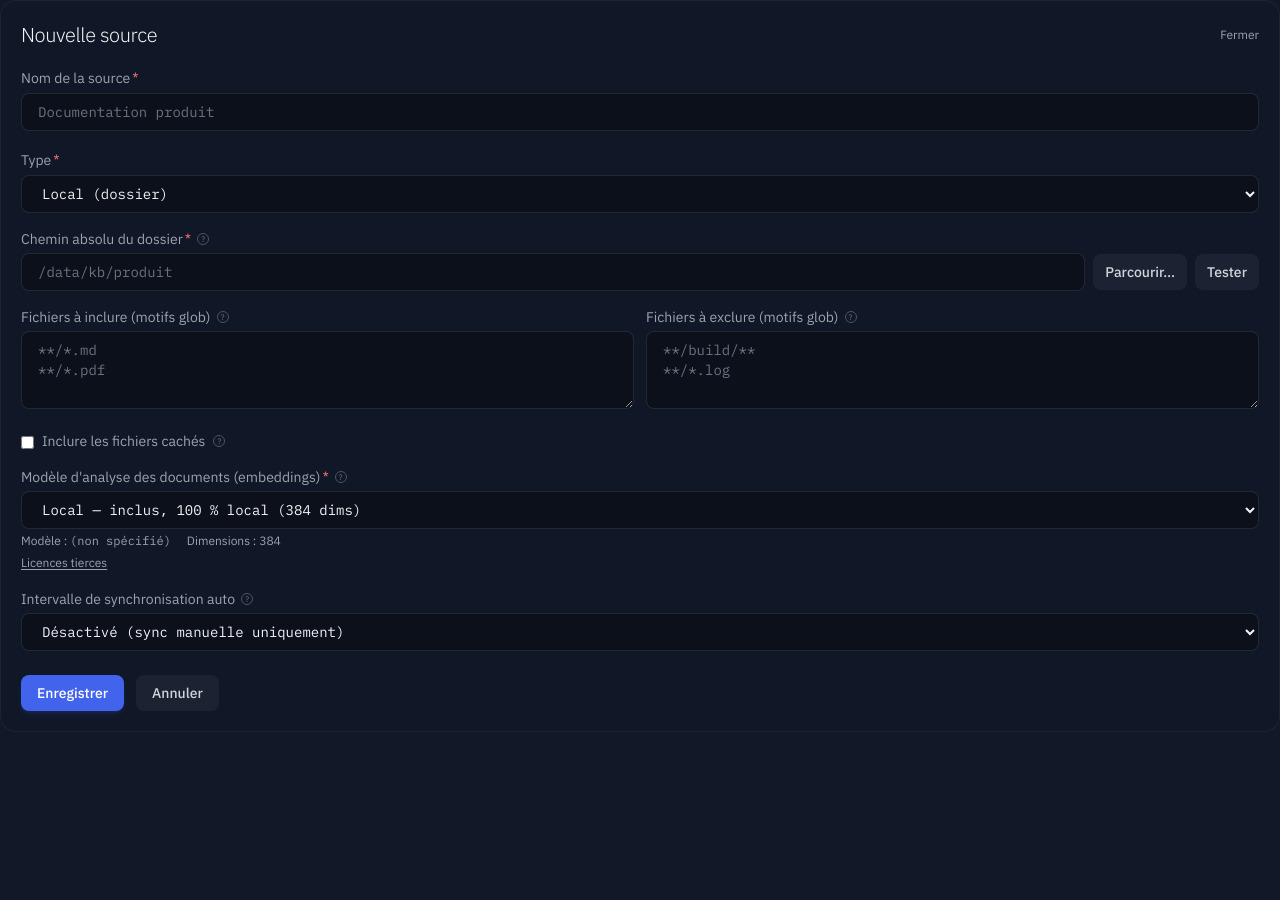
Test case: SourceForm — collapsible "?" help › clicking the "?" of the hidden-files checkbox does not tick it
Click the button named "Aide : Inclure les fichiers cachés" at x=219, y=441, box 213,435 -> 225,447
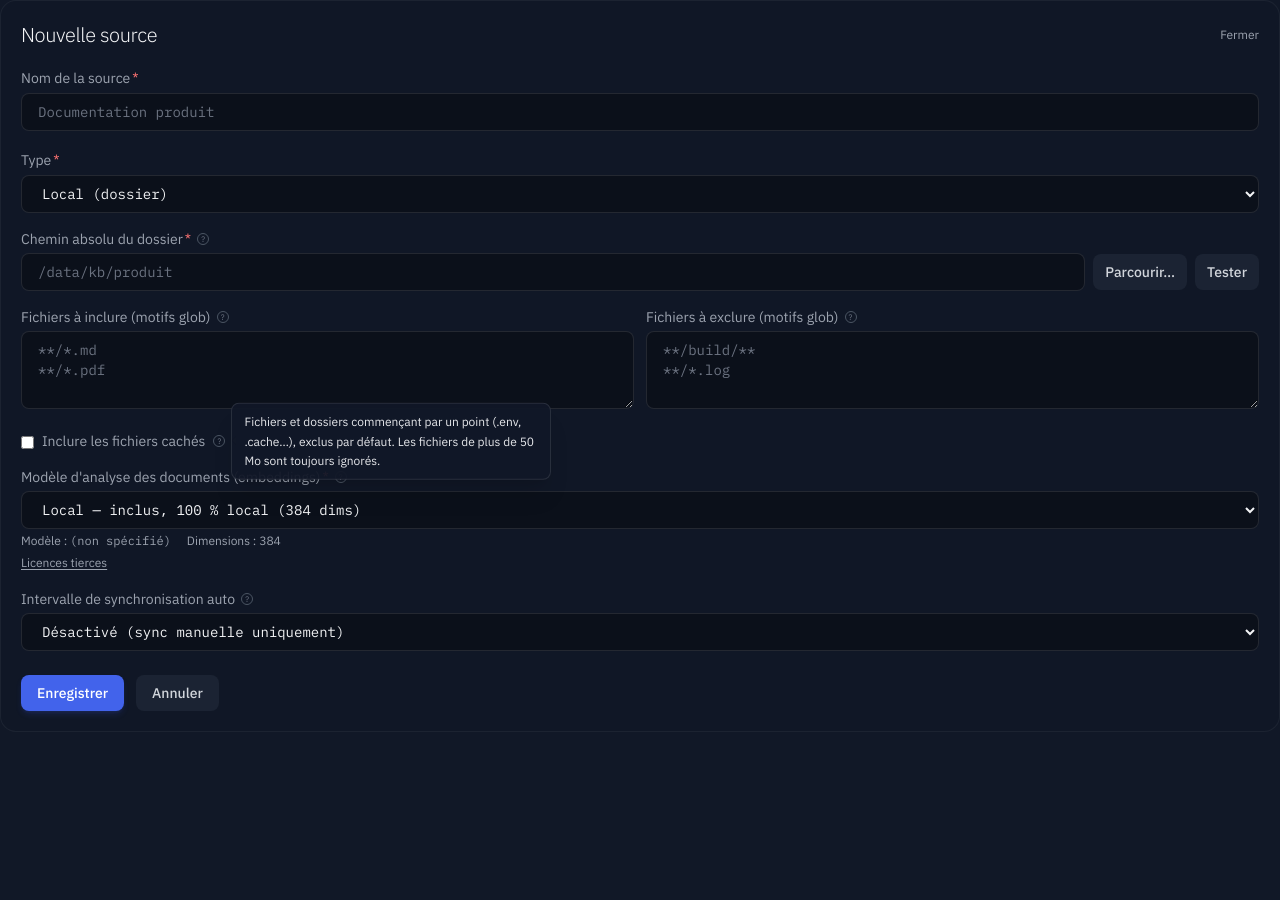
expect the checkbox labelled "Inclure les fichiers cachés" is not checked: met, box 21,436 -> 34,448
expect the tooltip shows "50 Mo": met, box 244,414 -> 534,468
